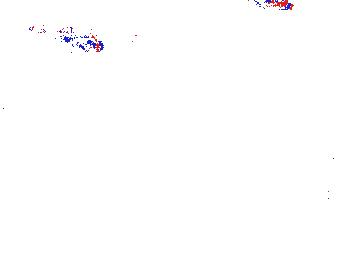X-ray fish: (106, 19, 145, 49)
red belly glassfish: (66, 35, 102, 54), (254, 1, 295, 15), (27, 23, 58, 37), (60, 28, 84, 40)
